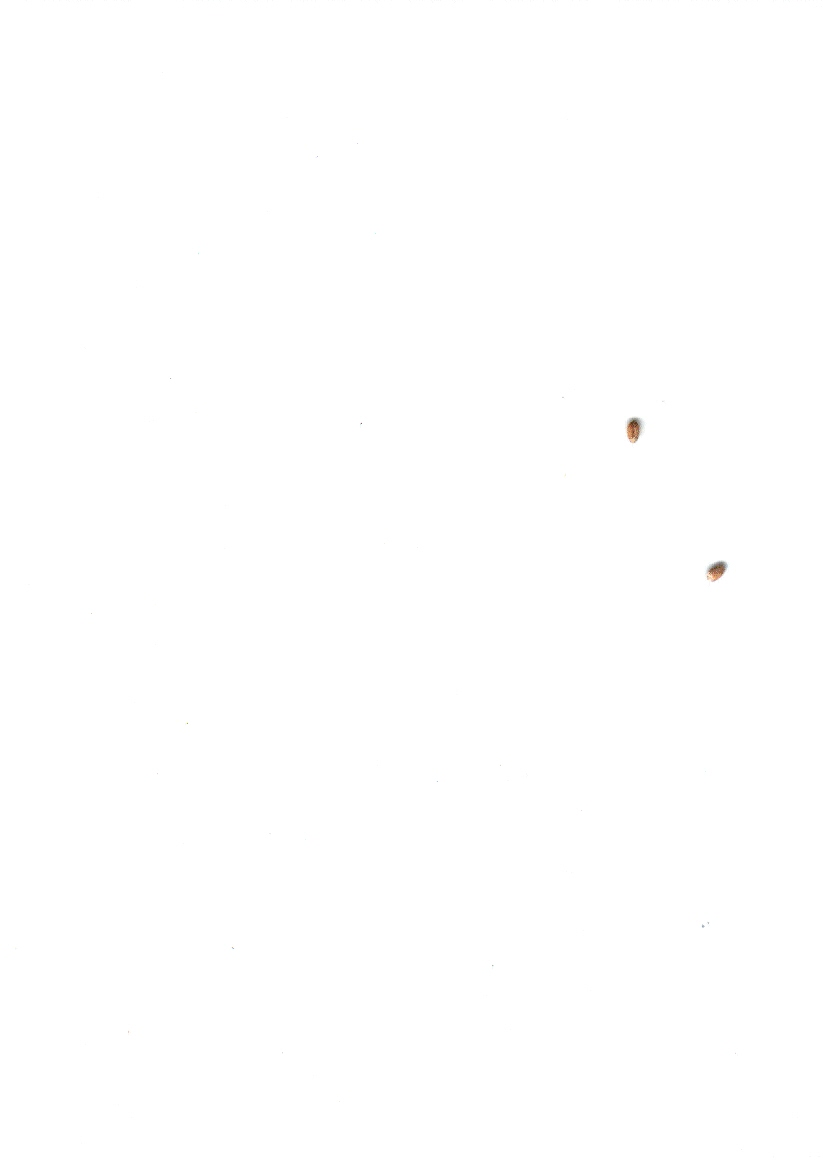grains: (693, 549, 741, 593), (611, 408, 653, 458)
